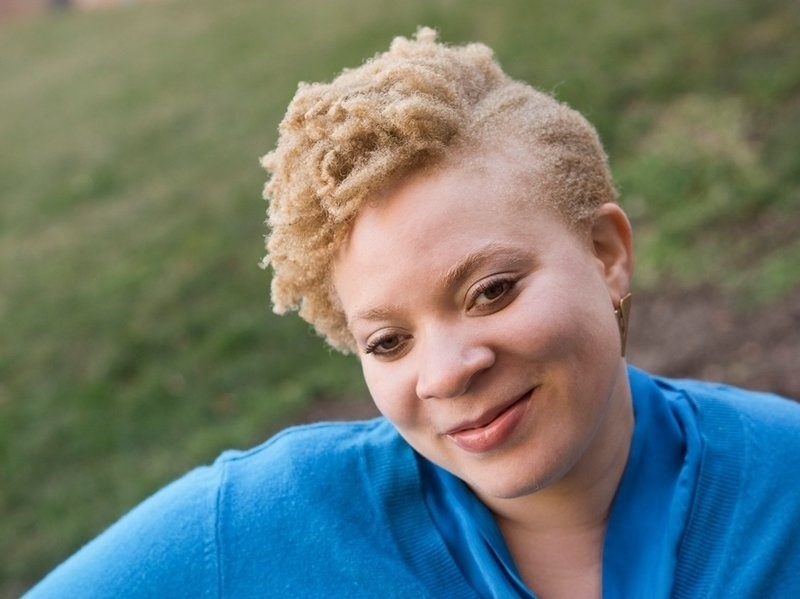face_no_mask: (294, 44, 633, 502)
